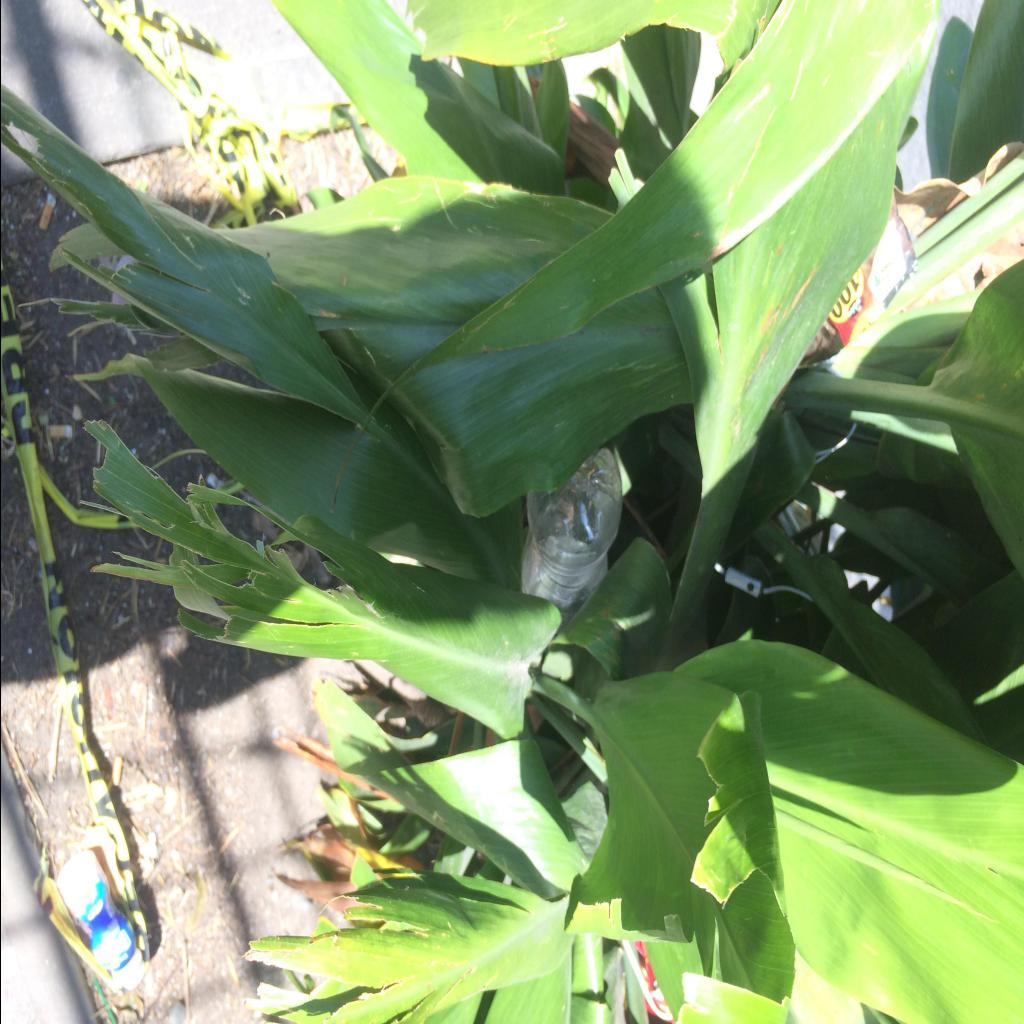Cigarette: (38, 192, 54, 230), (48, 426, 72, 438)
Clear plastic bottle: (522, 447, 622, 633)
Unlabeled litter: (796, 188, 914, 366)
